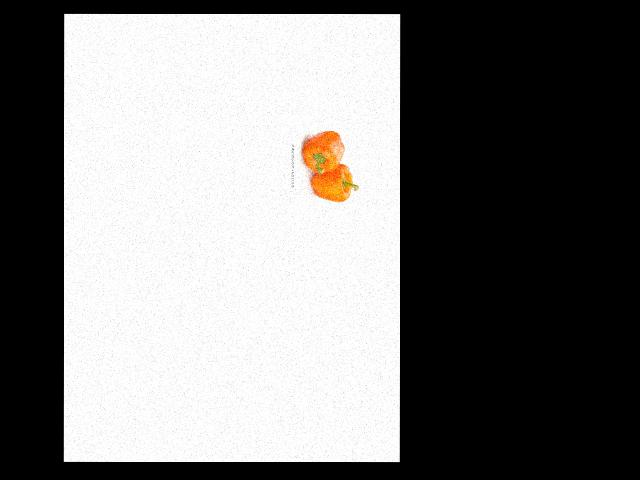bell_pepper: (298, 129, 346, 175)
